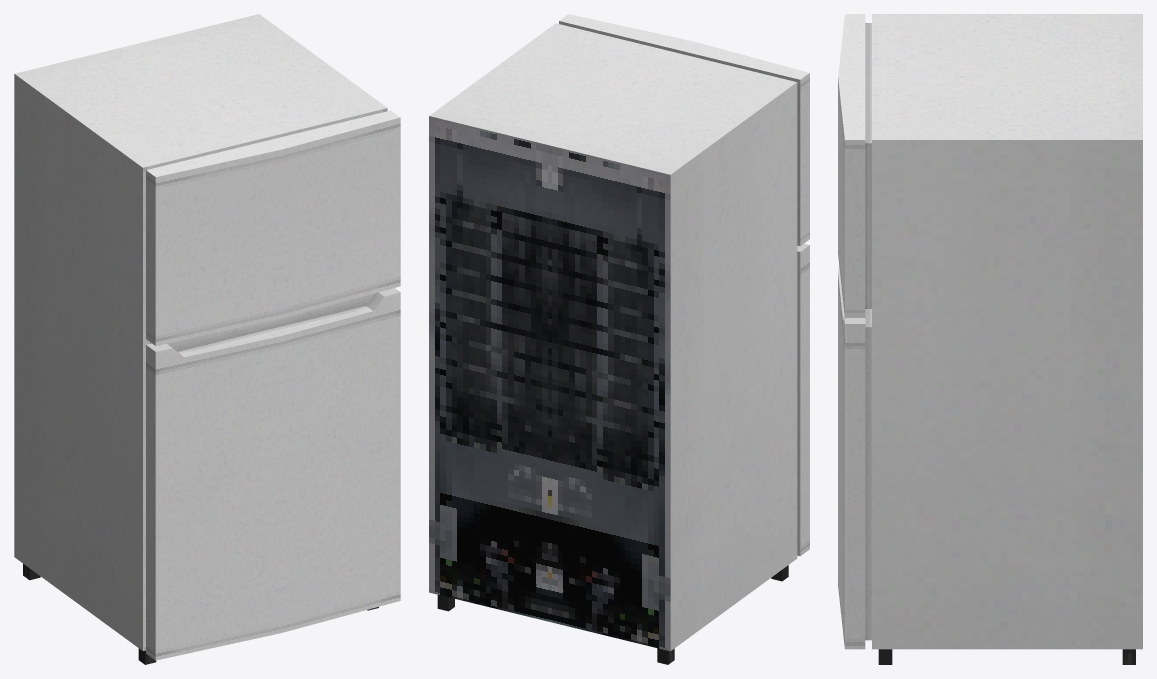
The model's file is Fridge.glb.
3 renders of one model, left to right at view 1: azimuth 30°, elevation 25°; view 2: azimuth 150°, elevation 25°; view 3: azimuth 270°, elevation 25°, orthographic. The views are drawn at different scales.
Visible parts, largest first — view 1: fridge, fridge door, fridge door.001; view 2: fridge, fridge door.001, fridge door; view 3: fridge, fridge door, fridge door.001.
Boxes of the visible parts, <box> form: fridge: <box>14,14,387,664</box>; fridge door: <box>146,288,400,660</box>; fridge door.001: <box>146,110,400,345</box>; fridge: <box>429,23,797,664</box>; fridge door.001: <box>559,14,809,246</box>; fridge door: <box>797,243,809,556</box>; fridge: <box>872,14,1142,664</box>; fridge door: <box>838,265,871,649</box>; fridge door.001: <box>838,14,871,317</box>.
Size of the model in its own units: 0.44 by 0.86 by 0.45.
2 materials, 1 textured.
